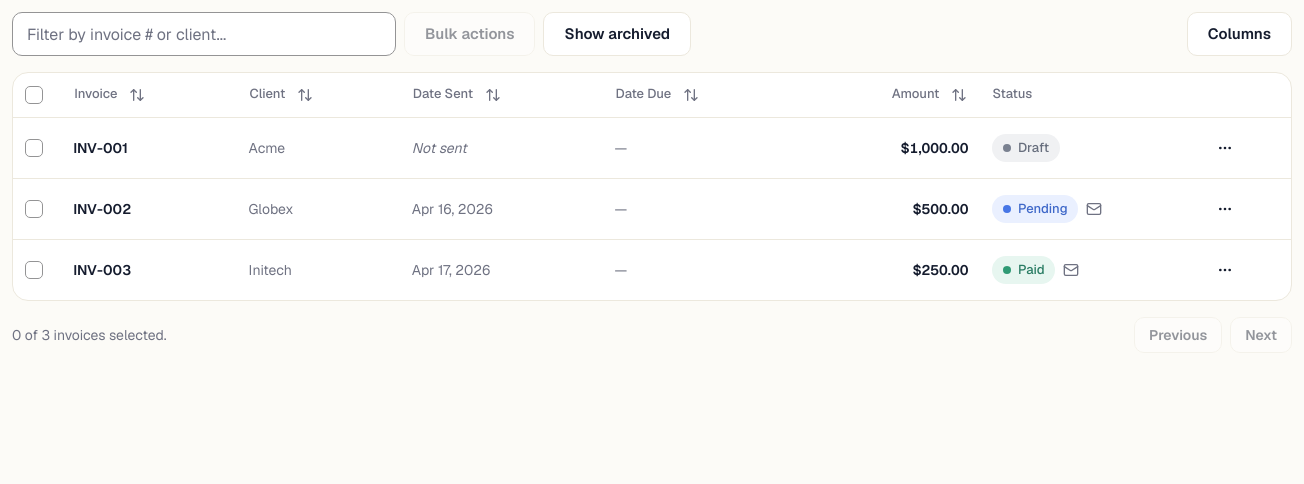
it: InvoiceDataTable — per-row actions › an email that doesn't go out on a draft says it's still a draft (v1.5.19)
Step 1. Click the button named "open menu" in the row of "INV-001" → [1225, 148], box top-left (1207, 130), bottom-right (1243, 166)
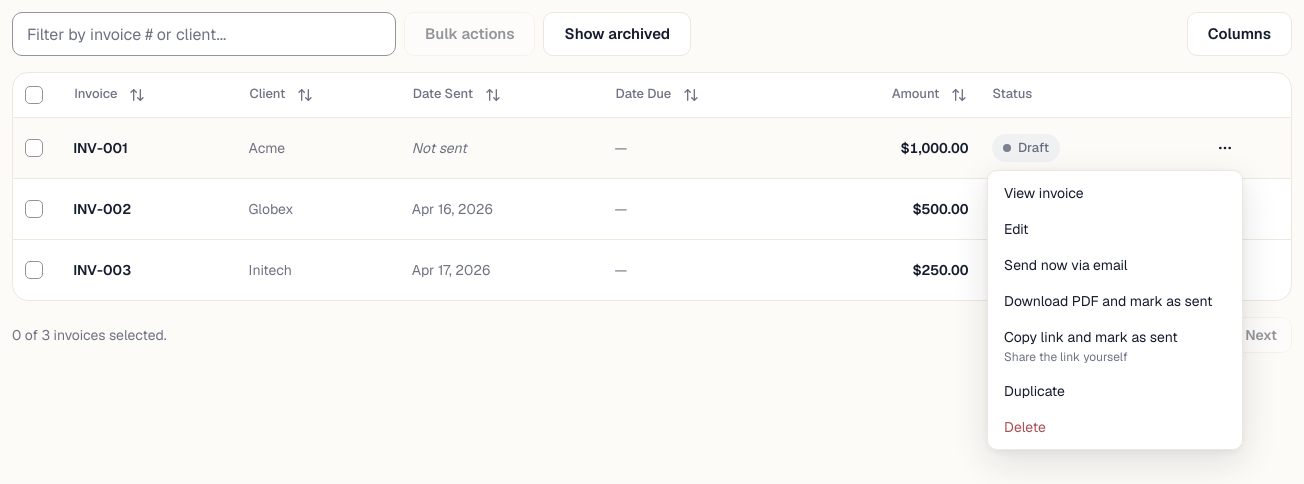
Step 2. Click the menu item "Send now via email" → [1066, 265], box top-left (1004, 256), bottom-right (1128, 274)
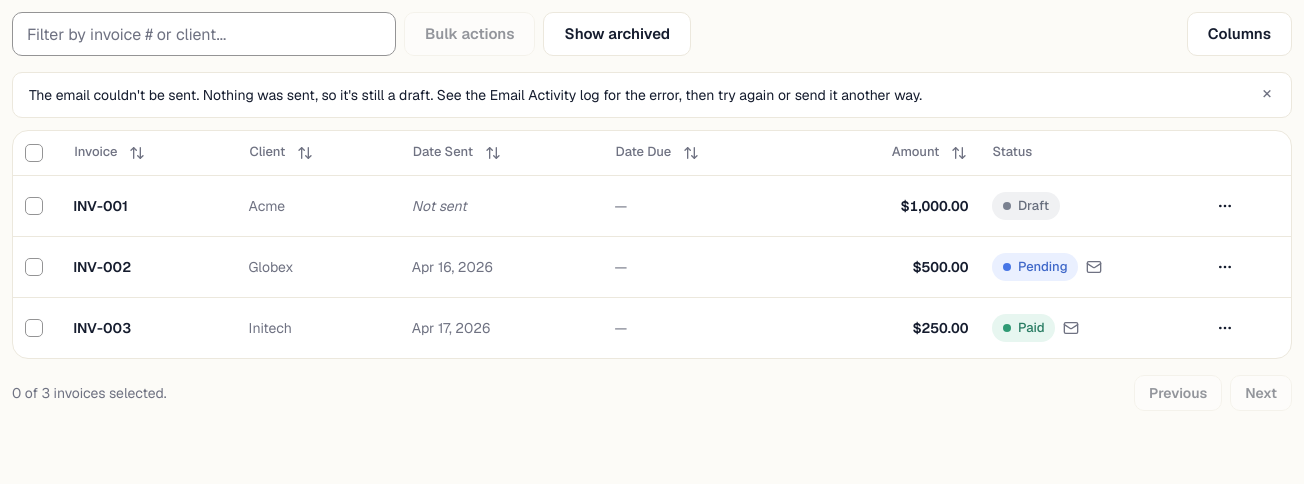
Expected: the text "still a draft" is shown, top-left (29, 86), bottom-right (922, 104)
